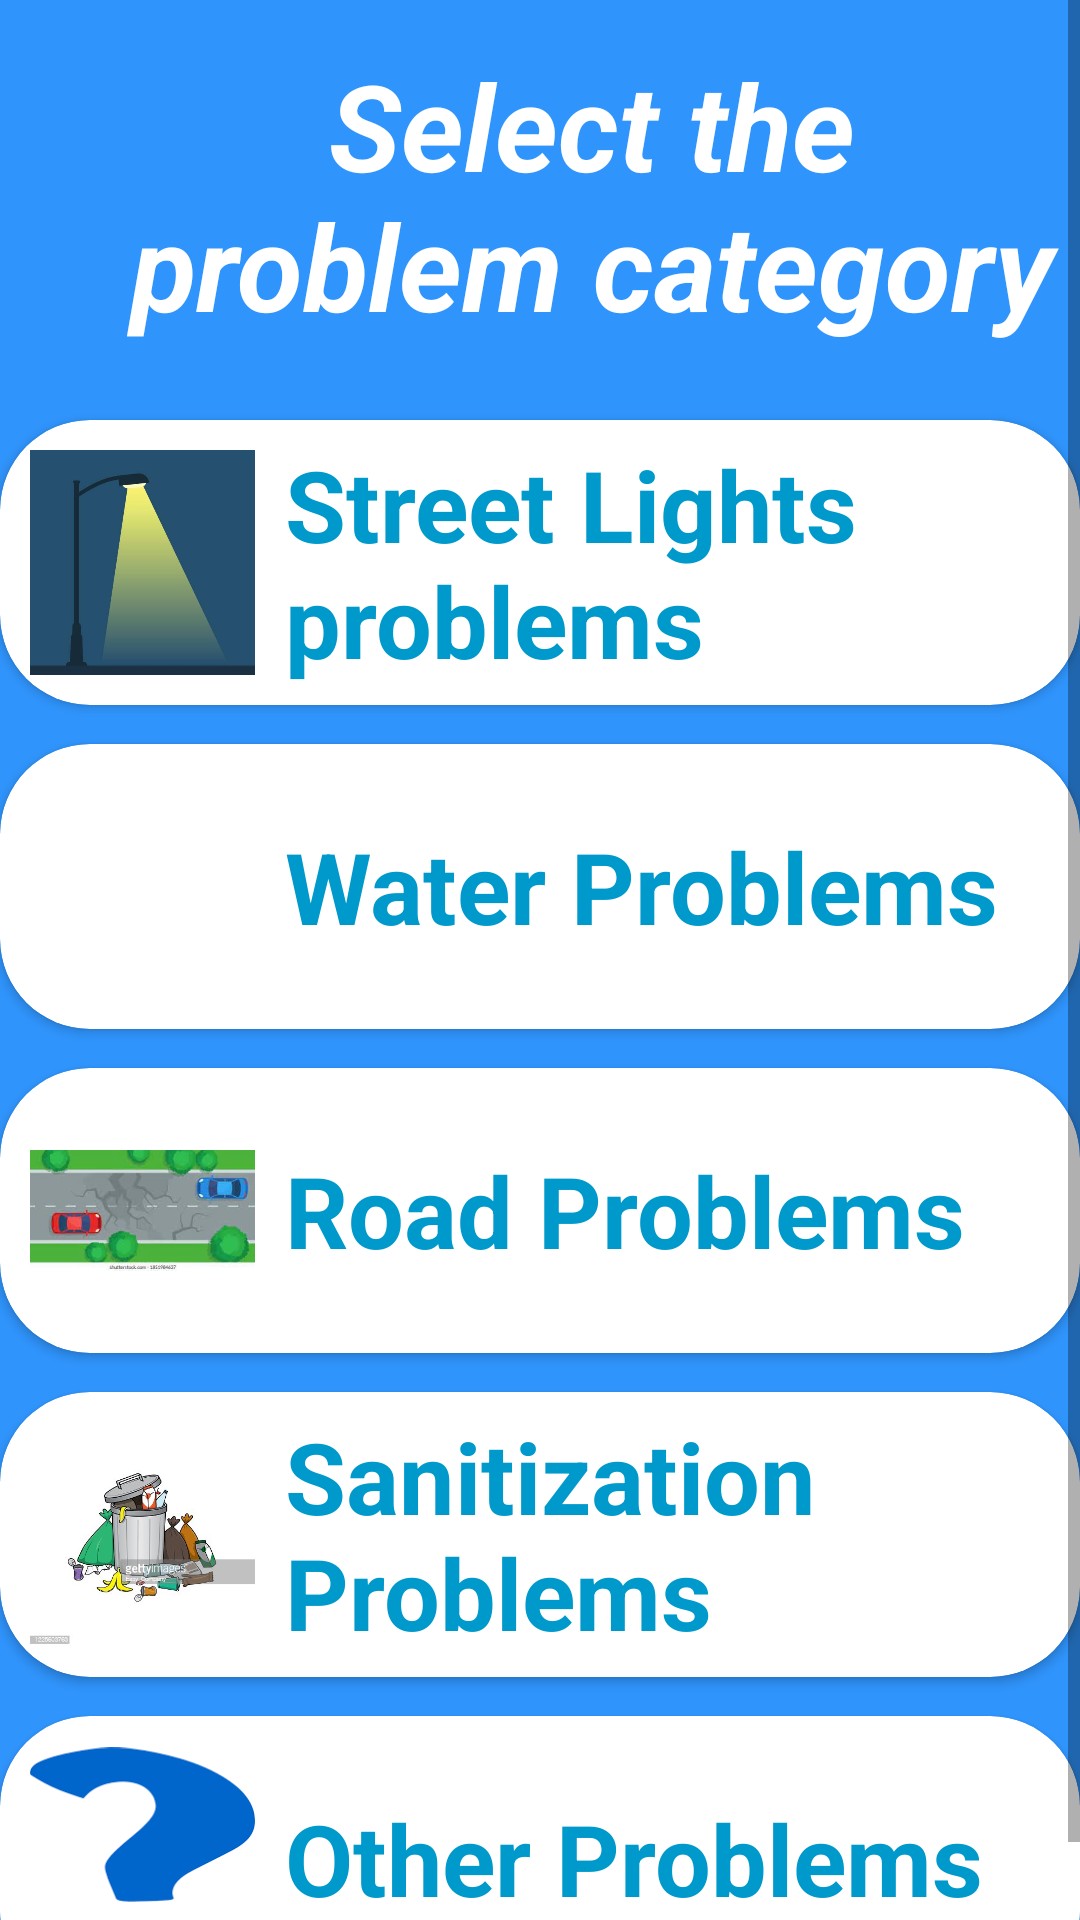

Icons on this 1080 x 1920 Android screen, each with the point to tap as point (x, y):
dustbin: point (142, 1558)
